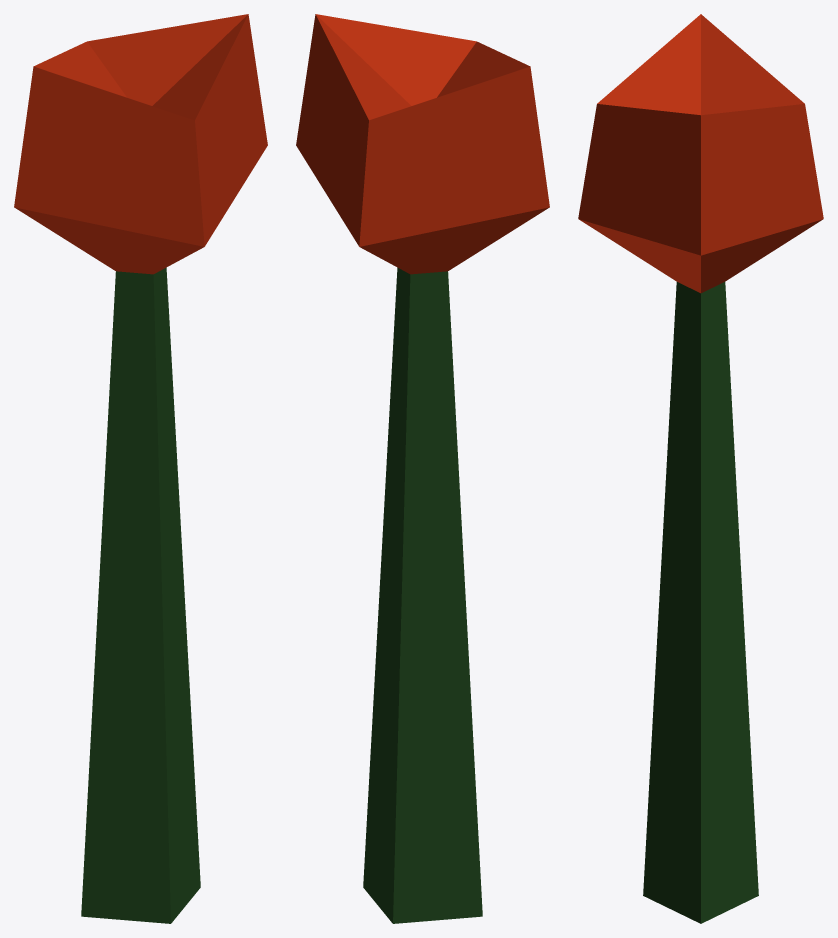
The model's file is flower5.FBX.
3 renders of one model, left to right at view 1: azimuth 30°, elevation 25°; view 2: azimuth 150°, elevation 25°; view 3: azimuth 270°, elevation 25°, orthographic. The views are drawn at different scales.
Visible parts, largest first — view 1: flower5; view 2: flower5; view 3: flower5.
Part boxes in pixels (left/top/right/bottom): flower5: left=14, top=14, right=267, bottom=923; flower5: left=296, top=14, right=549, bottom=923; flower5: left=578, top=14, right=823, bottom=923.
Bounding box in the file's own units: 7.64 × 6.63 × 24.76.
